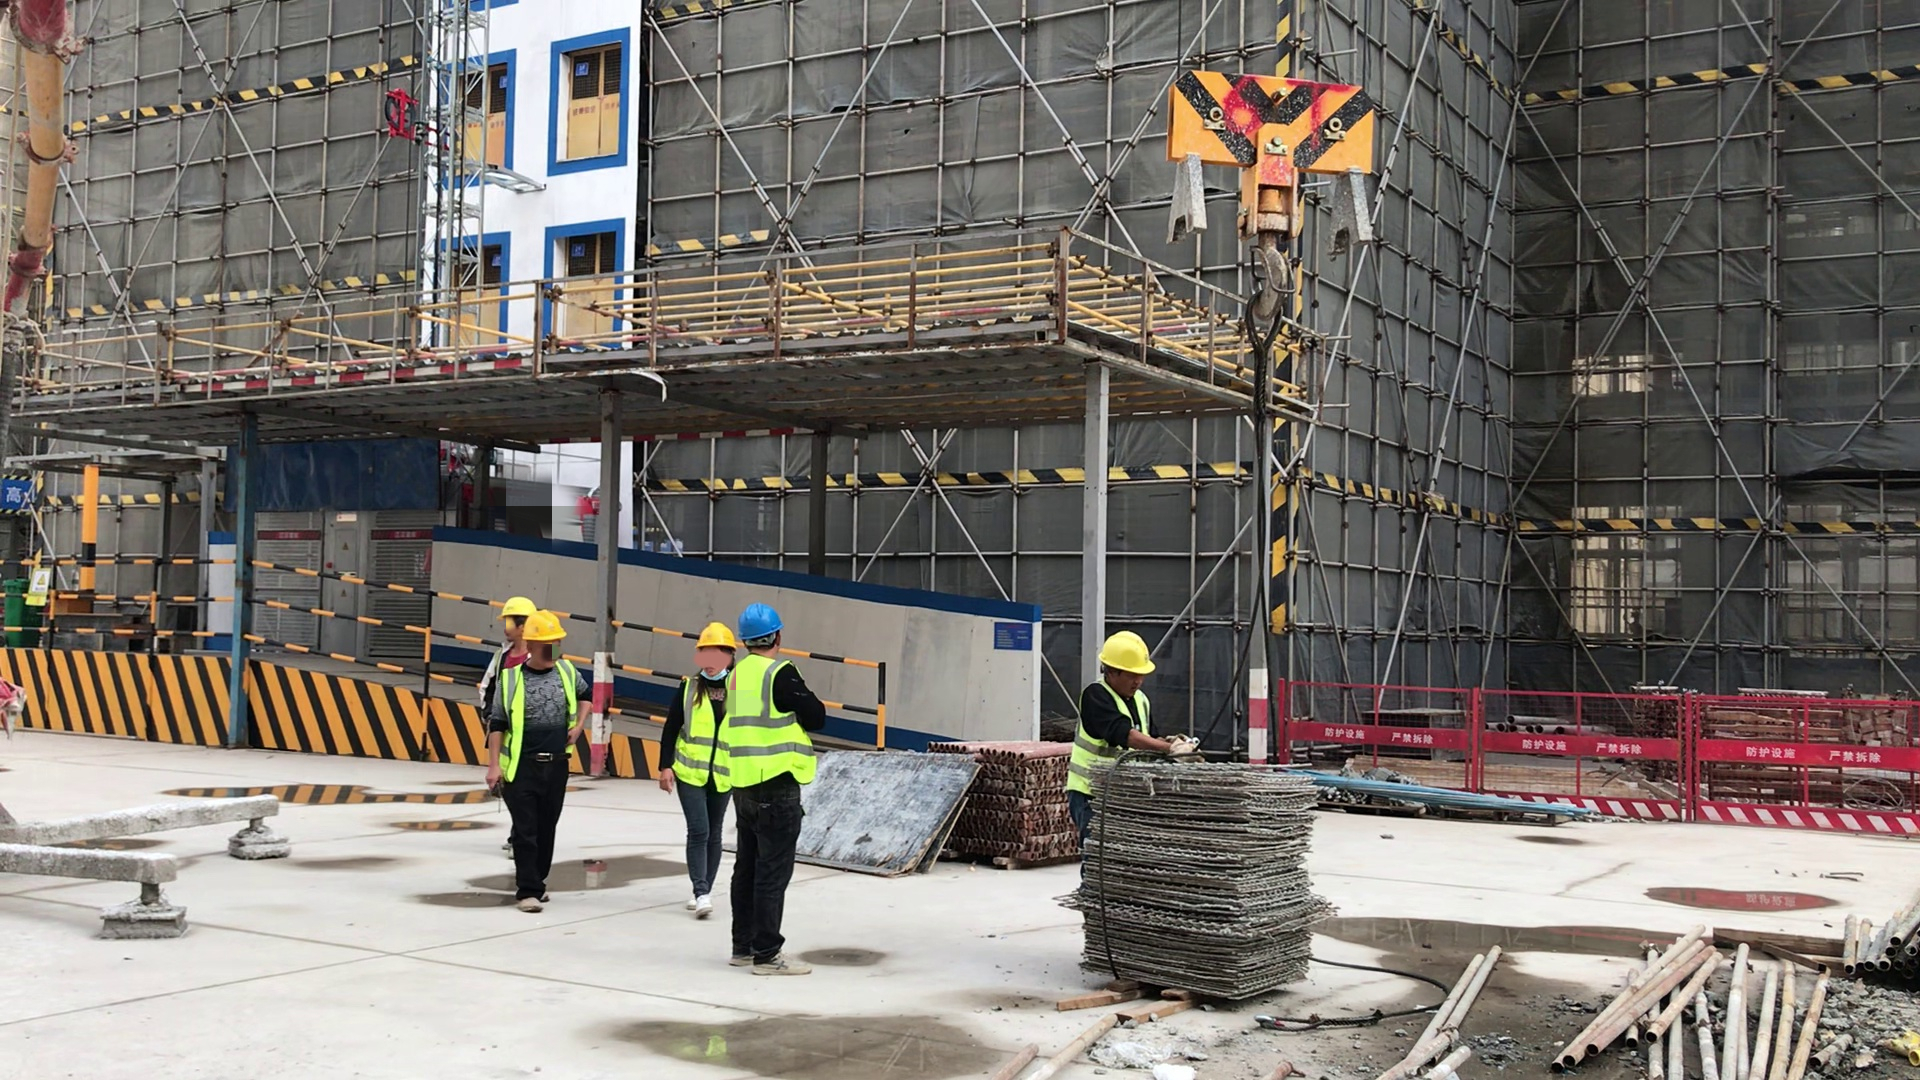fence: (17, 531, 901, 807), (1267, 661, 1920, 834)
helmet: (1101, 628, 1154, 681), (742, 604, 792, 641), (691, 624, 739, 658), (522, 613, 568, 644), (499, 598, 535, 625)
hook: (1166, 44, 1392, 281)
person: (724, 607, 829, 993), (658, 593, 738, 920), (1068, 617, 1182, 816), (518, 609, 580, 914), (480, 591, 527, 708)
scaffold: (1560, 924, 1822, 1075), (936, 732, 1077, 885)
vest: (723, 653, 810, 796), (1072, 681, 1170, 809), (496, 657, 586, 782), (673, 666, 738, 793)
